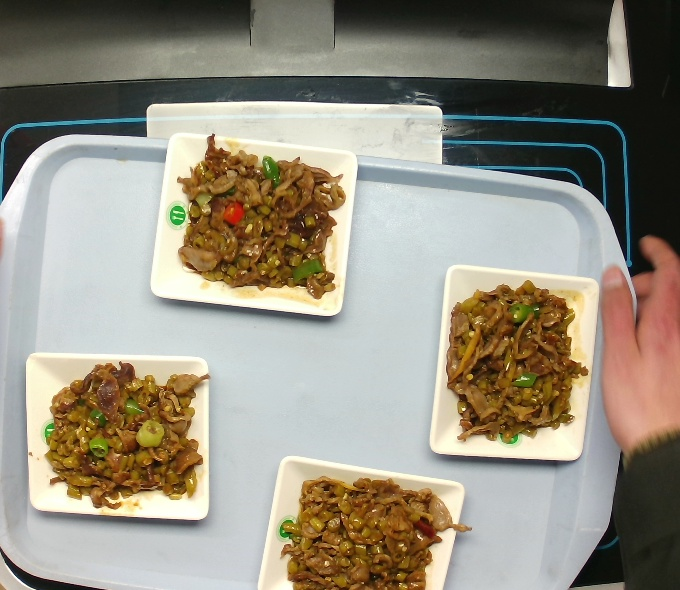wcq-JiZhen: (174, 151, 332, 298), (40, 360, 198, 507), (443, 283, 579, 437), (281, 472, 442, 590)
